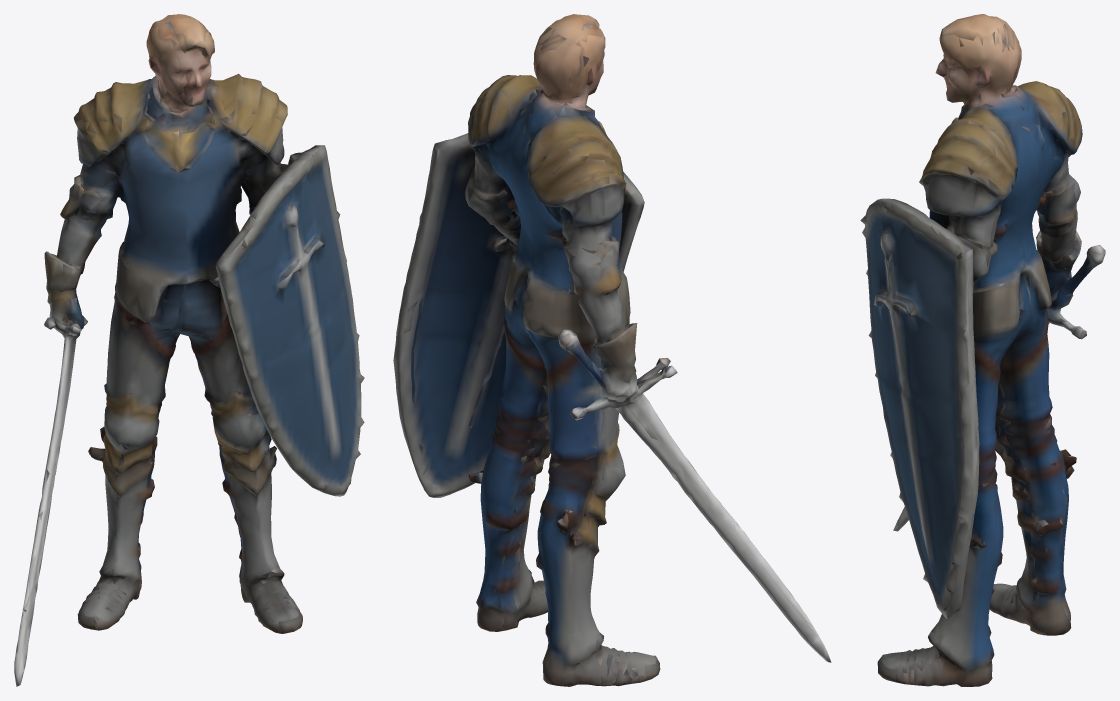
The model's file is Matius_final.glb.
3 views of the same model, side by side, from view 1: azimuth 30°, elevation 25°; view 2: azimuth 150°, elevation 25°; view 3: azimuth 270°, elevation 25° (orthographic). The views are drawn at different scales.
Visible parts, largest first — view 1: Mesh1.0; view 2: Mesh1.0; view 3: Mesh1.0.
Part boxes in pixels (x1,y1,x2,y2): Mesh1.0: (14,14,364,686); Mesh1.0: (393,14,831,686); Mesh1.0: (860,14,1105,686).
Bounding box in the file's own units: 1.2 × 1.8 × 0.6406.
Materials: 1 (1 with a texture image).
